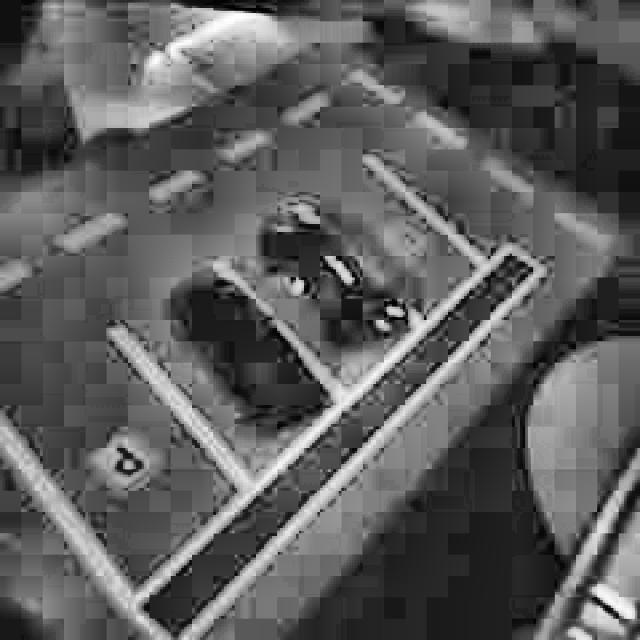car: (162, 258, 326, 449), (251, 203, 414, 360)
